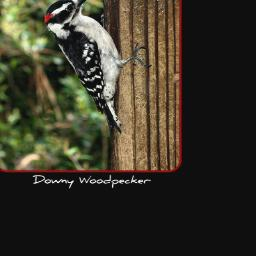Woodpecker: (43, 0, 154, 132)
